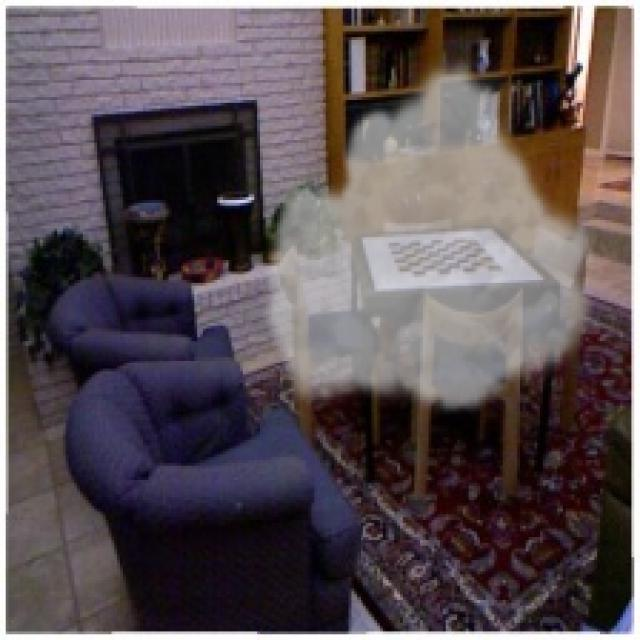smoke: (257, 57, 603, 417)
